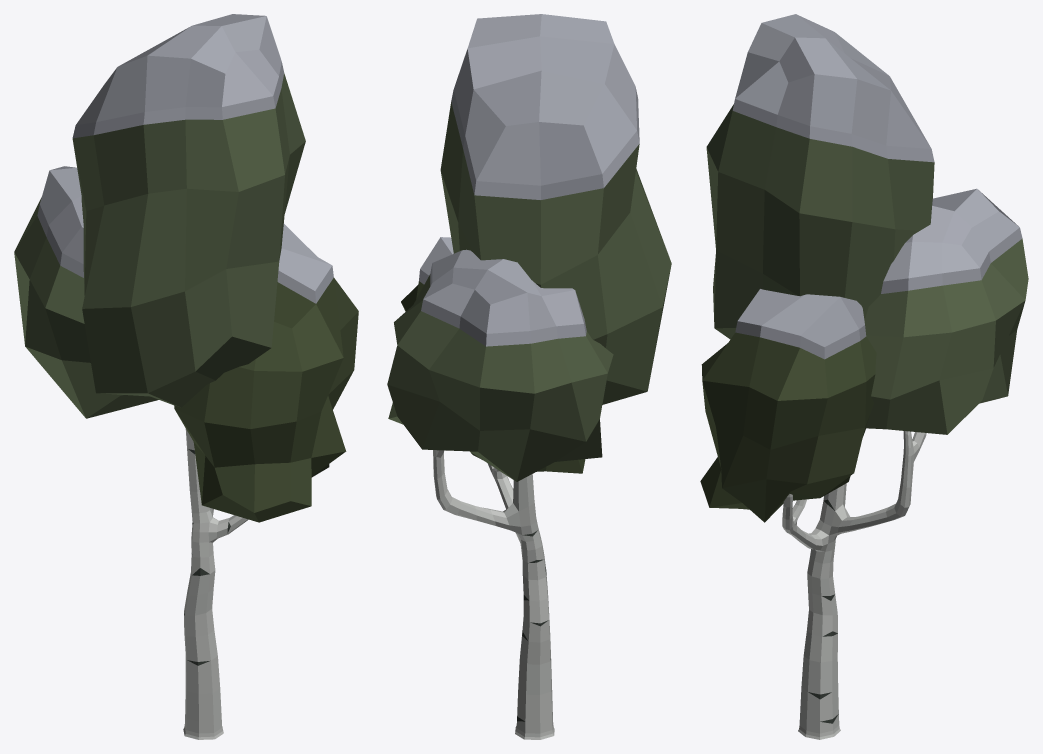
File: BirchTree_Snow_3.glb
The picture shows the model from 3 angles, left to right: view 1: azimuth 30°, elevation 25°; view 2: azimuth 150°, elevation 25°; view 3: azimuth 270°, elevation 25°; orthographic projection. The views are drawn at different scales.
Parts seen in each view (by area): view 1: BirchTree_Snow_3_Cube.120; view 2: BirchTree_Snow_3_Cube.120; view 3: BirchTree_Snow_3_Cube.120.
Part boxes in pixels (<box>): BirchTree_Snow_3_Cube.120: <box>14,14,358,739</box>; BirchTree_Snow_3_Cube.120: <box>387,14,671,739</box>; BirchTree_Snow_3_Cube.120: <box>700,14,1028,739</box>.
Size of the model in its own units: 1.57 by 4.15 by 1.77.
1 material, 1 textured.
